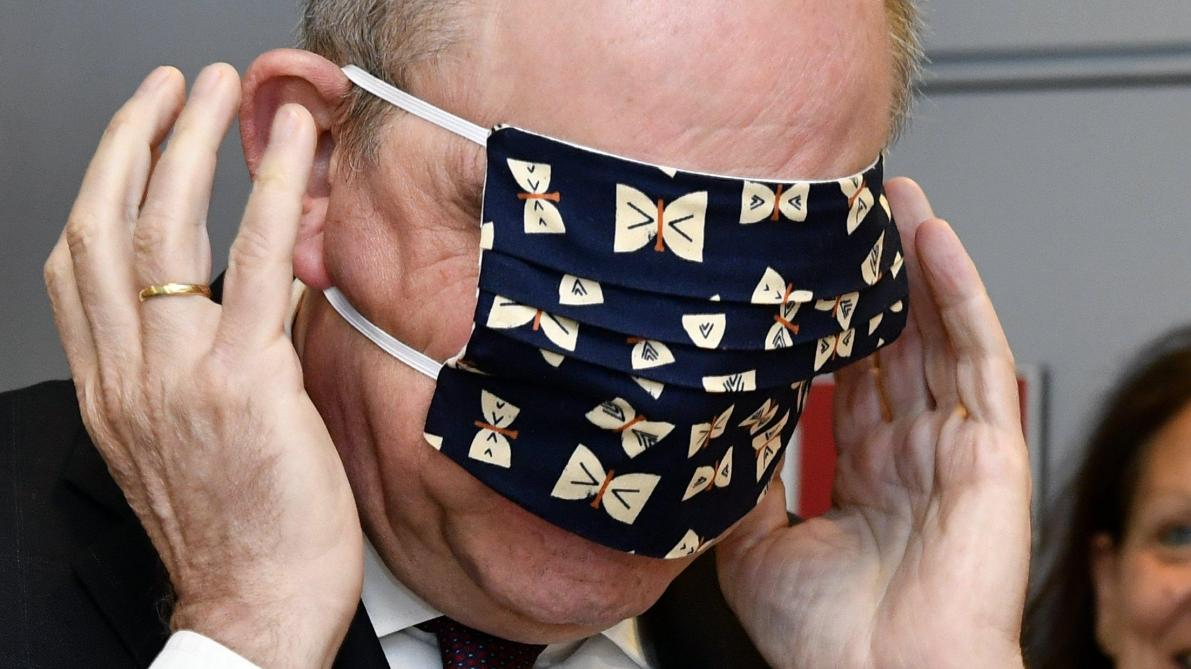with_incorrect_mask: (282, 6, 897, 641)
